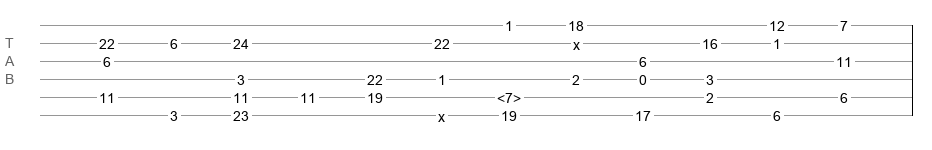0: (639, 72, 647, 82)
1: (438, 72, 446, 82), (505, 18, 513, 28), (773, 36, 781, 46)
11: (99, 90, 115, 100), (233, 90, 249, 100), (300, 90, 316, 100), (836, 54, 852, 64)
12: (769, 18, 785, 28)
16: (702, 36, 718, 46)
17: (635, 108, 651, 118)
18: (568, 18, 584, 28)
19: (367, 90, 383, 100), (501, 108, 517, 118)
2: (572, 72, 580, 82), (706, 90, 714, 100)
22: (99, 36, 115, 46), (367, 72, 383, 82), (434, 36, 450, 46)
23: (233, 108, 249, 118)
24: (233, 36, 249, 46)
3: (170, 108, 178, 118), (237, 72, 245, 82), (706, 72, 714, 82)
6: (103, 54, 111, 64), (170, 36, 178, 46), (639, 54, 647, 64), (773, 108, 781, 118), (840, 90, 848, 100)
7: (840, 18, 848, 28)
harmonic: (497, 90, 521, 100)
x: (438, 109, 445, 117), (573, 37, 580, 45)
